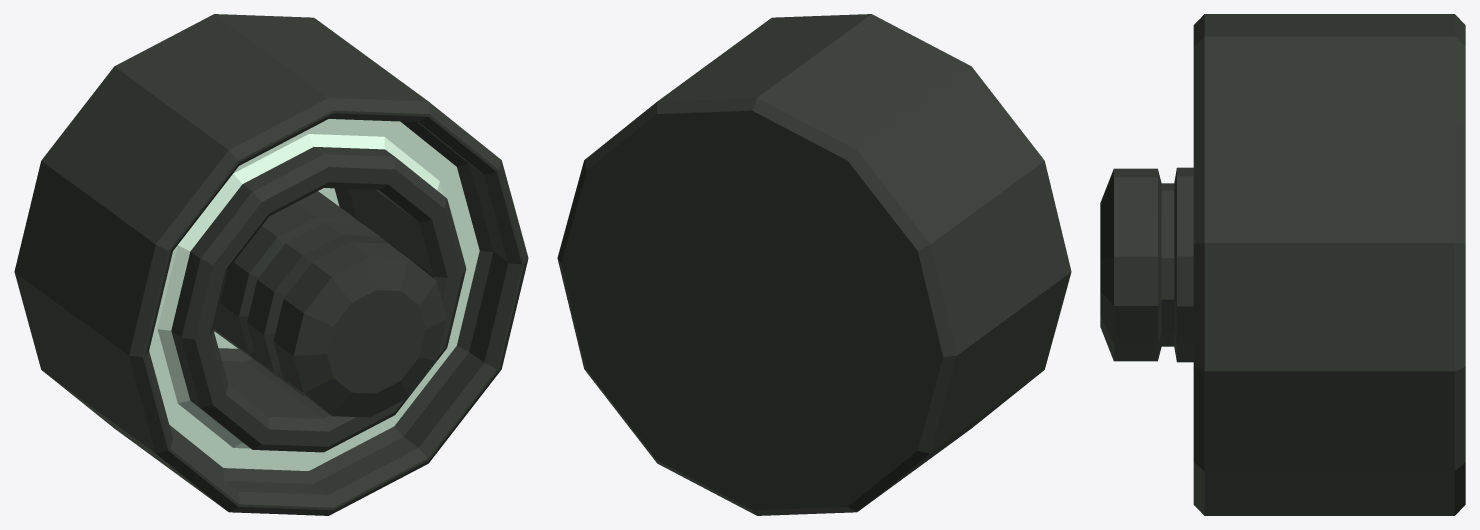
The model's file is portalone.fbx.
3 renders of one model, left to right at view 1: azimuth 30°, elevation 25°; view 2: azimuth 150°, elevation 25°; view 3: azimuth 270°, elevation 25°, orthographic. The views are drawn at different scales.
Parts seen in each view (by area): view 1: port; view 2: port; view 3: port.
Boxes of the visible parts, x1,y1,x2,y2 form: port: [14, 14, 528, 515]; port: [557, 14, 1071, 515]; port: [1100, 14, 1465, 515].
Size of the model in its own units: 33.19 by 33.19 by 24.05.
